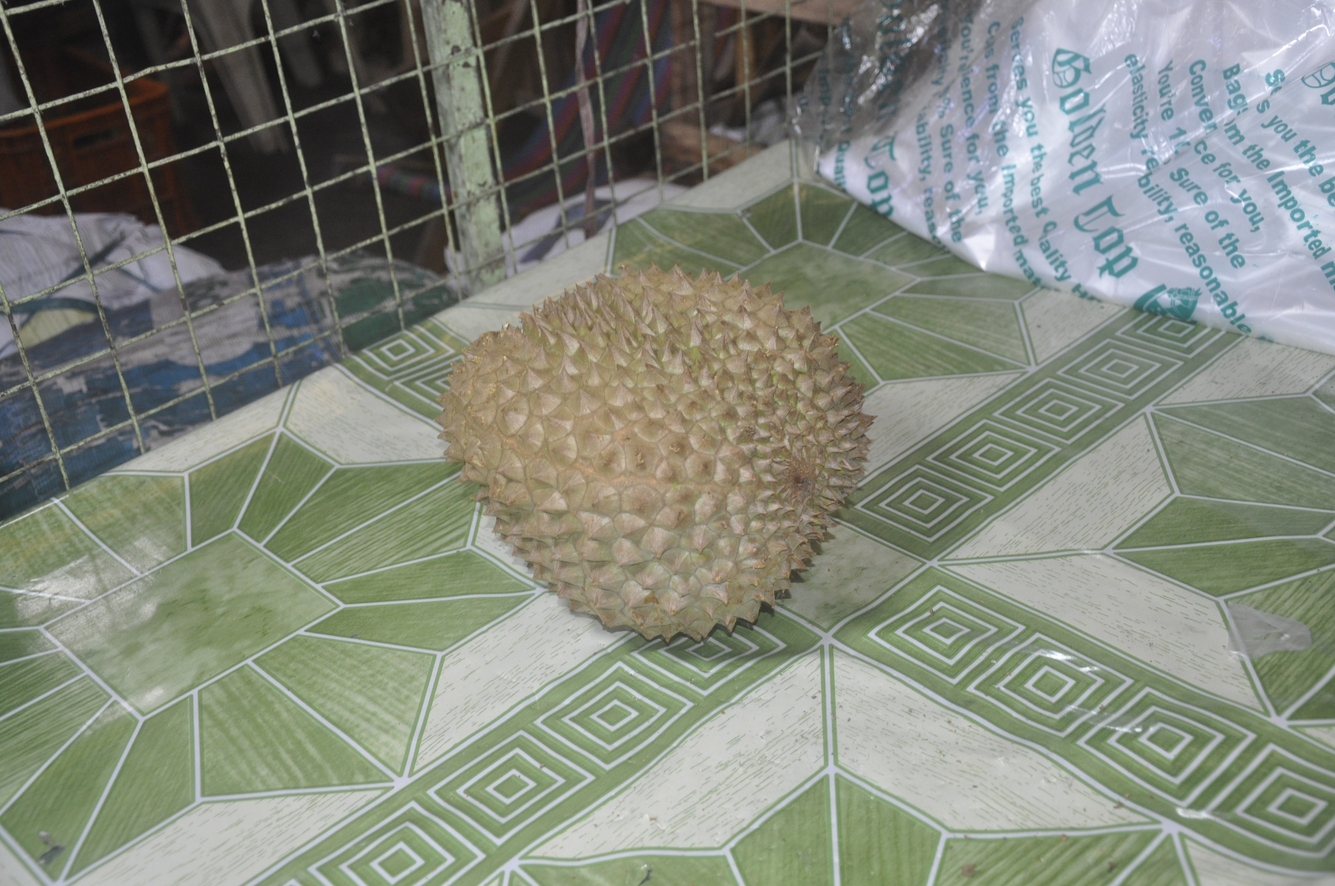mature: (438, 266, 873, 641)
